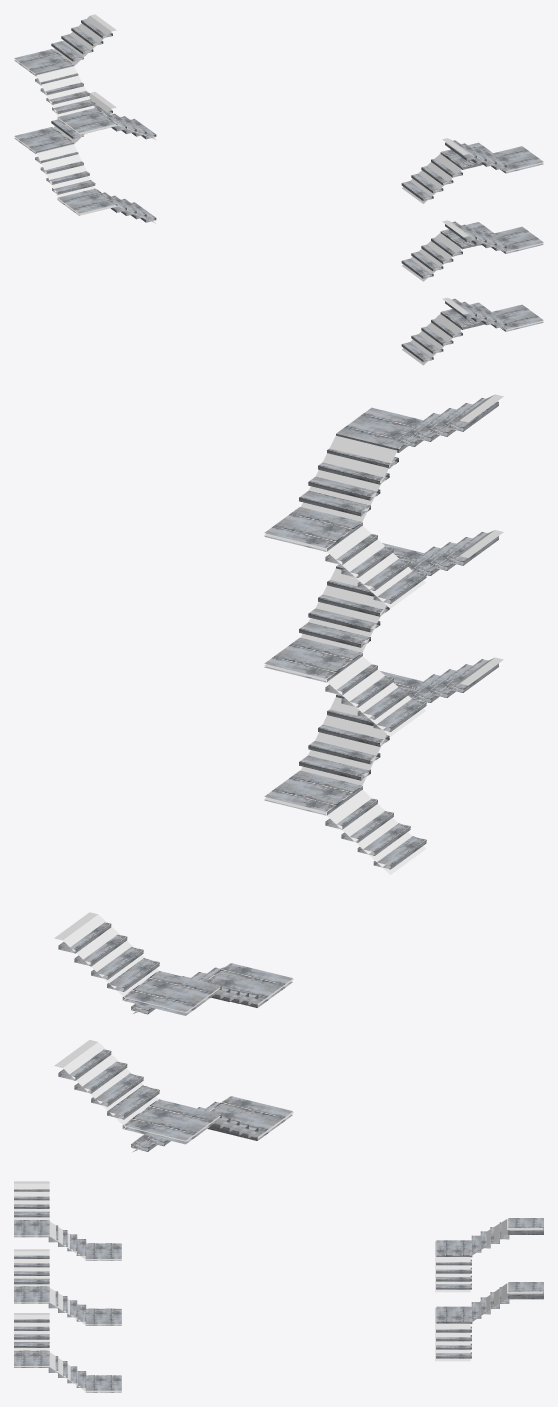
File: ESCALERAS.fbx
3 renders of one model, top to bottom at view 1: azimuth 30°, elevation 25°; view 2: azimuth 150°, elevation 25°; view 3: azimuth 270°, elevation 25°, orthographic. The views are drawn at different scales.
Parts seen in each view (by area): view 1: ESCALERAS, ESCALERAS 4 UCX, ESCALERAS 5 UCX, ESCALERAS 3 UCX, ESCALERAS 1 UCX, ESCALERAS 2 UCX; view 2: ESCALERAS, ESCALERAS 1 UCX, ESCALERAS 3 UCX, ESCALERAS 2 UCX, ESCALERAS 4 UCX, ESCALERAS 5 UCX; view 3: ESCALERAS, ESCALERAS 5 UCX, ESCALERAS 1 UCX, ESCALERAS 4 UCX, ESCALERAS 2 UCX, ESCALERAS 3 UCX.
Part boxes in pixels (<box>): ESCALERAS: <box>14,19,543,362</box>; ESCALERAS 4 UCX: <box>15,14,155,139</box>; ESCALERAS 5 UCX: <box>15,92,155,223</box>; ESCALERAS 3 UCX: <box>402,297,543,365</box>; ESCALERAS 1 UCX: <box>402,138,543,203</box>; ESCALERAS 2 UCX: <box>402,220,543,281</box>; ESCALERAS: <box>58,398,498,1151</box>; ESCALERAS 1 UCX: <box>264,394,503,608</box>; ESCALERAS 3 UCX: <box>264,657,503,874</box>; ESCALERAS 2 UCX: <box>264,530,503,736</box>; ESCALERAS 4 UCX: <box>54,912,293,1013</box>; ESCALERAS 5 UCX: <box>54,1040,293,1152</box>; ESCALERAS: <box>14,1189,543,1392</box>; ESCALERAS 5 UCX: <box>435,1283,542,1361</box>; ESCALERAS 1 UCX: <box>14,1181,121,1259</box>; ESCALERAS 4 UCX: <box>435,1219,542,1292</box>; ESCALERAS 2 UCX: <box>14,1249,121,1325</box>; ESCALERAS 3 UCX: <box>14,1313,121,1391</box>.
Size of the model in its own units: 1298 by 1446 by 3463.
1 material, 1 textured.
